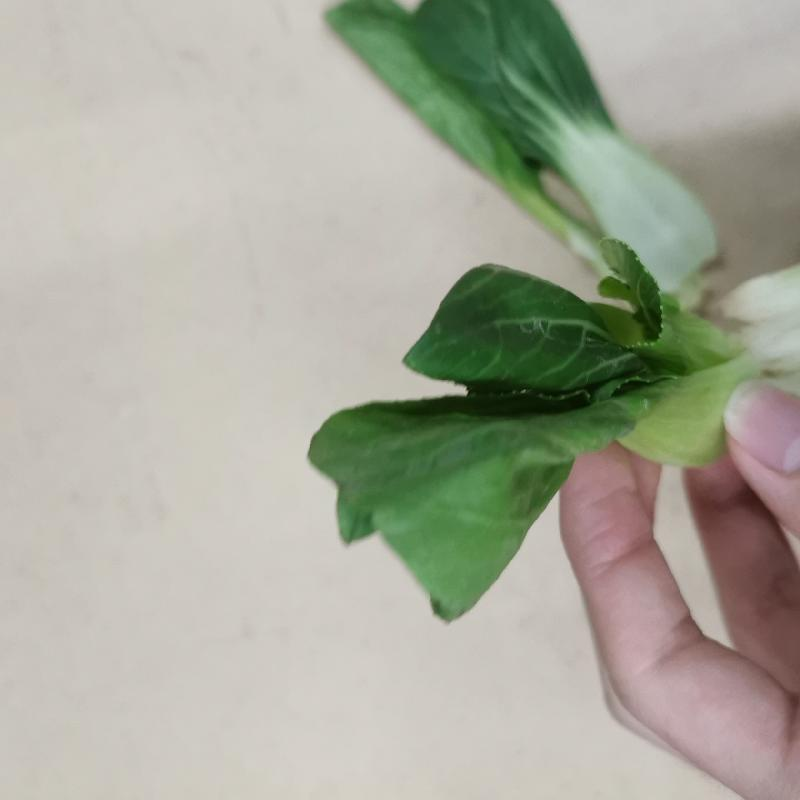green vegatable: (301, 239, 769, 625)
